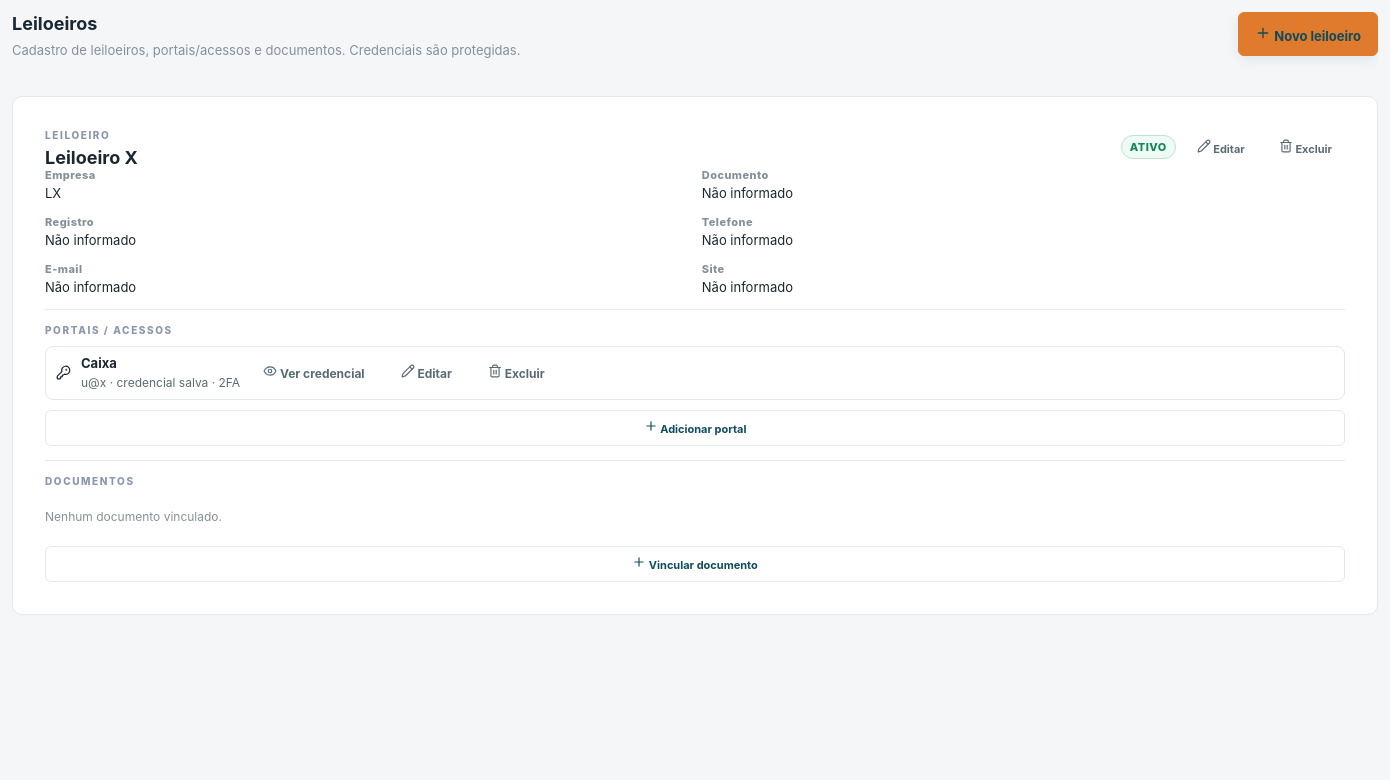
Scenario: AuctioneersPage › exclui um portal após confirmação
Expected: the text "Caixa" is shown, [81,355,117,371]
Botão "Excluir" do portal (segundo Excluir — o primeiro é do leiloeiro no head).
Click the button "Excluir" in the row of "· 2FA": [516, 373] box [475,355,558,391]
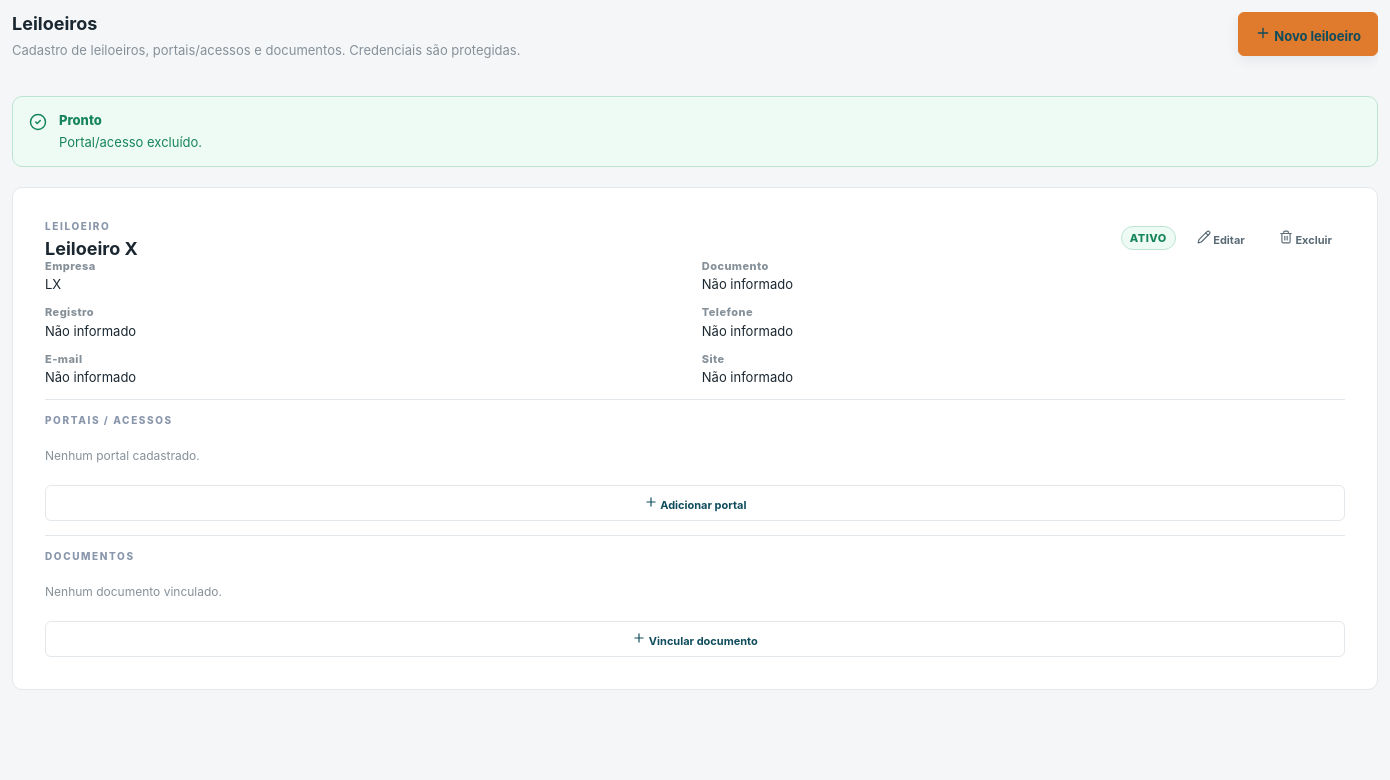
Now the text "Portal/acesso excluído." is shown, box [59,134,202,150]
